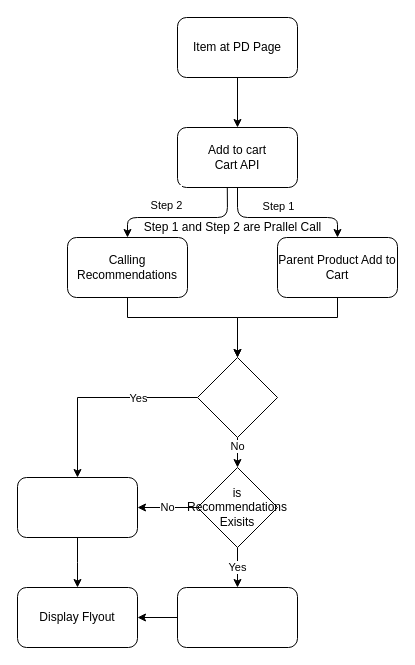
This 415x665 diagram has some shape labels left out. The shapes that lost their labels are listed below. From the top down, each one's centre as x and y in pixels, then its label:
At (x=237, y=397): "is Installer Delivry".
At (x=77, y=507): "Don't Add Recommendation Items".
At (x=237, y=617): "Add Recommendation Items".
